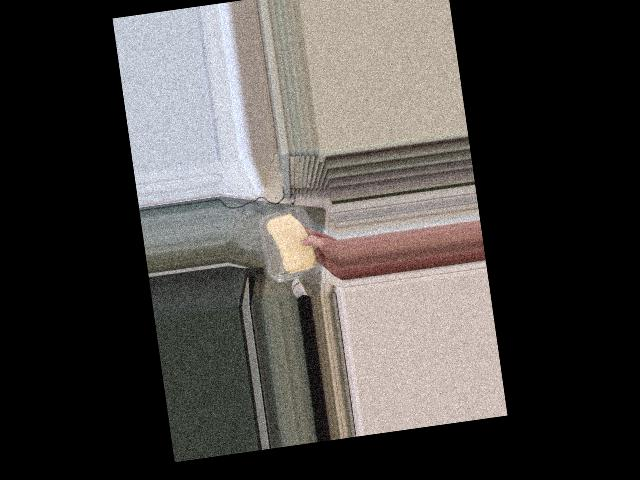cheese: (262, 205, 322, 282)
